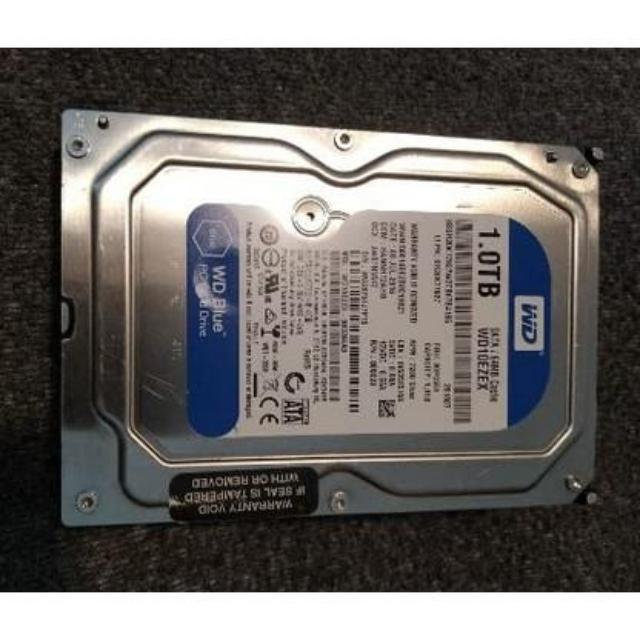DISK: (58, 112, 600, 523)
